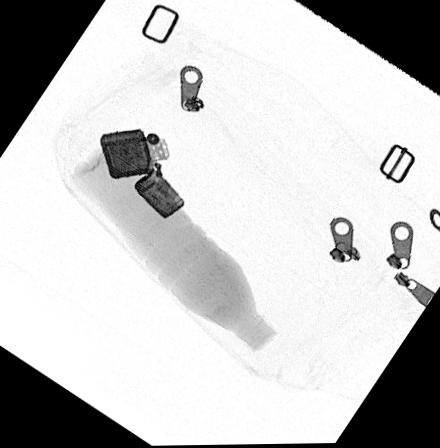Lighter: (98, 129, 184, 220)
